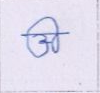i_matra: (45, 16, 63, 53)
